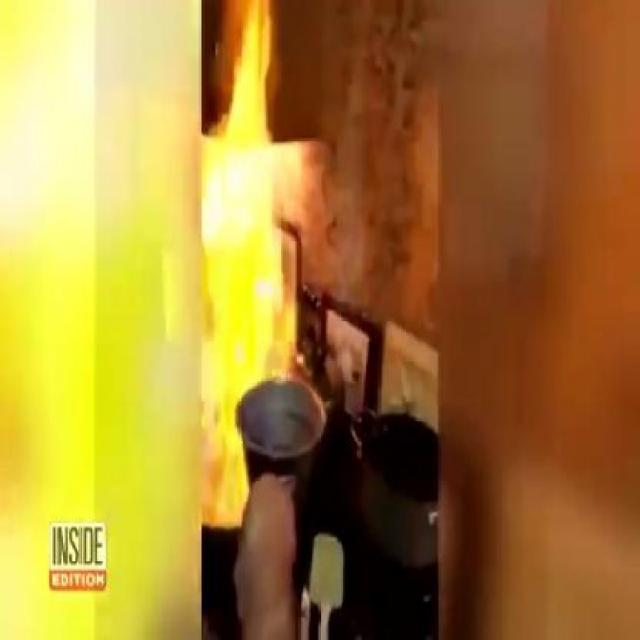fire: (204, 18, 292, 377)
